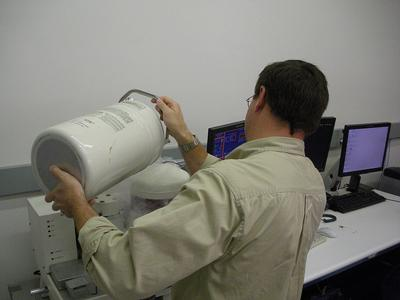person: (45, 60, 332, 298)
